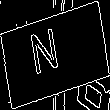N_S: (38, 26, 72, 84)
